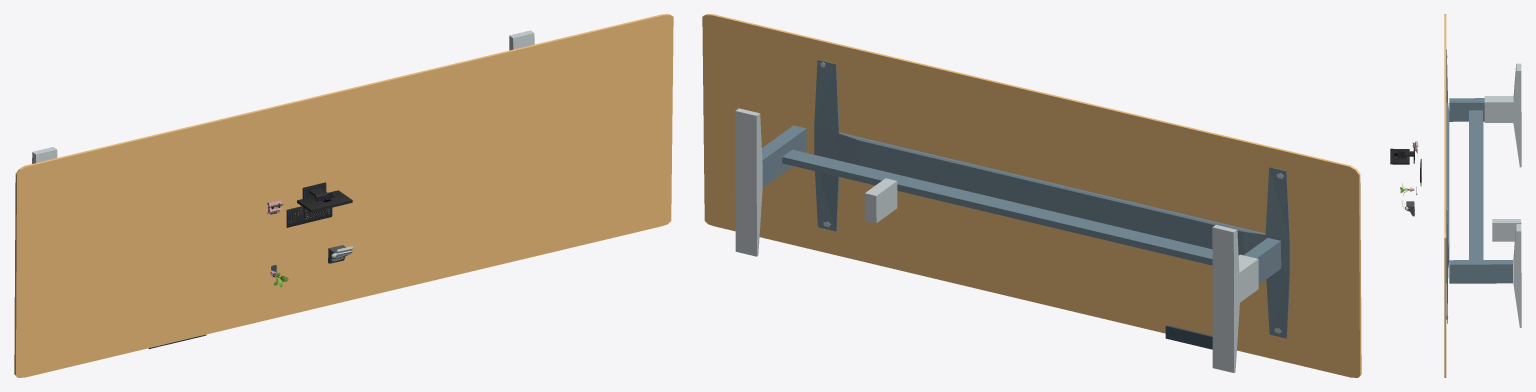
File: base_separated.glb
3 renders of one model, left to right at view 1: azimuth 30°, elevation 25°; view 2: azimuth 150°, elevation 25°; view 3: azimuth 270°, elevation 25°, orthographic. The views are drawn at different scales.
Visible parts, largest first — view 1: group1225565333.001, Monitor, Keyboard1; view 2: group1225565333.001, group399505019.001, group388491432, group368928516.001, group368928516, group1416516780, group266128311, group1038318382, group288482468, group550552063; view 3: group388491432, group1416516780, group1225565333.001, group399505019.001, group288482468, group368928516.001, group368928516, group1038318382, group266128311, Monitor, Cube.025.
Boxes of the visible parts, x1=… form: group1225565333.001: x1=14, y1=14, x2=673, y2=377; Monitor: x1=297, y1=182, x2=352, y2=212; Keyboard1: x1=286, y1=206, x2=332, y2=227; group1225565333.001: x1=702, y1=14, x2=1361, y2=377; group399505019.001: x1=814, y1=59, x2=1290, y2=338; group388491432: x1=782, y1=149, x2=1212, y2=265; group368928516.001: x1=1212, y1=224, x2=1239, y2=372; group368928516: x1=735, y1=108, x2=762, y2=256; group1416516780: x1=762, y1=125, x2=806, y2=187; group266128311: x1=864, y1=178, x2=897, y2=223; group1038318382: x1=1244, y1=238, x2=1281, y2=284; group288482468: x1=1238, y1=254, x2=1258, y2=302; group550552063: x1=1165, y1=325, x2=1212, y2=349; group388491432: x1=1469, y1=110, x2=1483, y2=259; group1416516780: x1=1449, y1=260, x2=1512, y2=283; group1225565333.001: x1=1444, y1=14, x2=1446, y2=377; group399505019.001: x1=1446, y1=49, x2=1449, y2=323; group288482468: x1=1484, y1=96, x2=1513, y2=122; group368928516.001: x1=1513, y1=63, x2=1521, y2=167; group368928516: x1=1513, y1=224, x2=1521, y2=327; group1038318382: x1=1449, y1=98, x2=1484, y2=121; group266128311: x1=1492, y1=219, x2=1521, y2=241; Monitor: x1=1390, y1=147, x2=1414, y2=164; Cube.025: x1=1401, y1=199, x2=1414, y2=216.
Bounding box in the file's own units: 20.07 × 6.28 × 5.04.
Materials: 24 (2 with a texture image).
